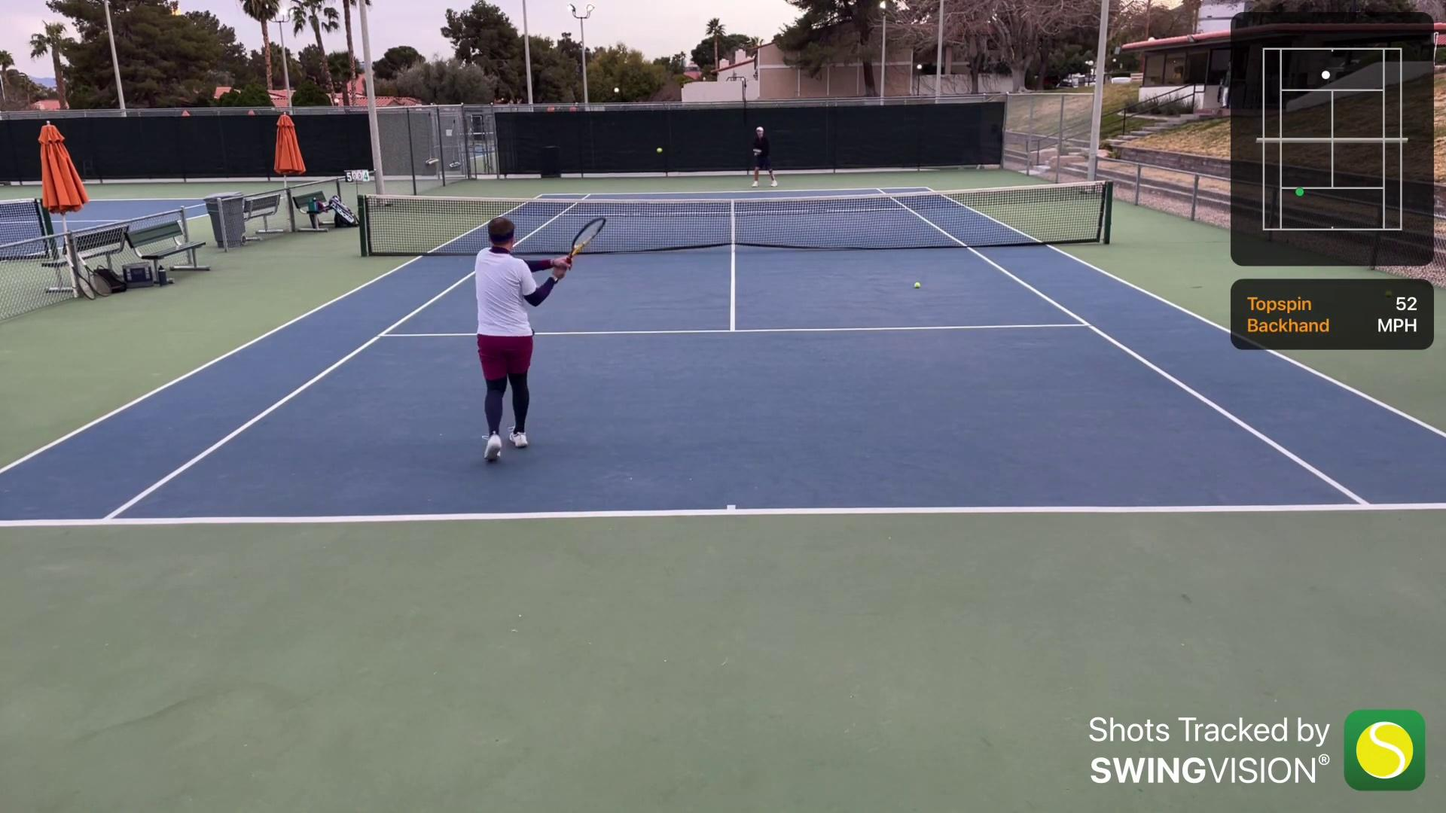ball: (654, 146, 663, 155), (913, 281, 921, 291), (976, 165, 981, 169)
